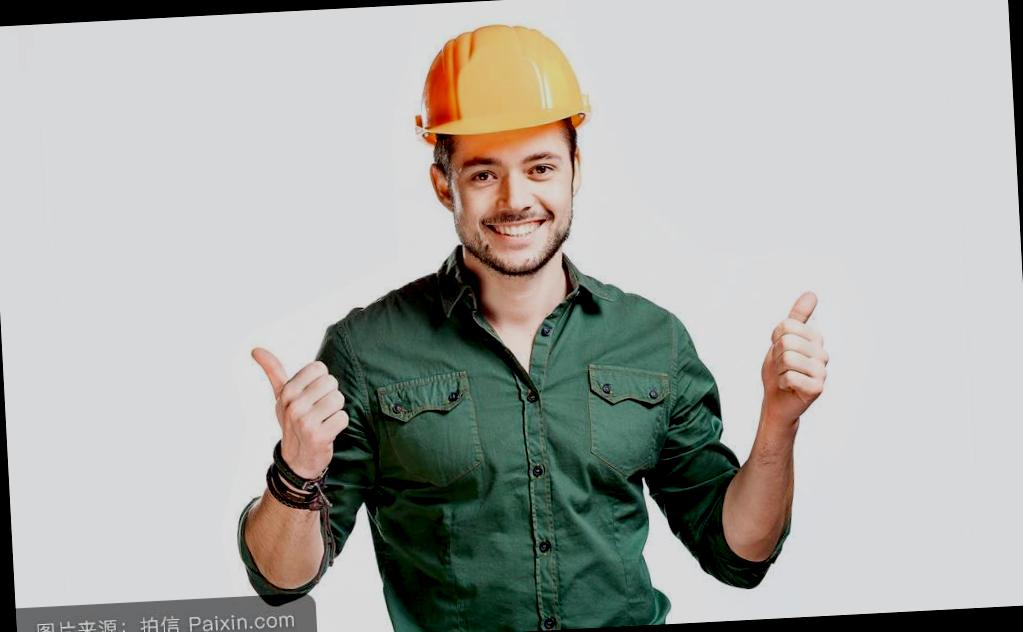helmet: (409, 23, 590, 140)
no_vest: (360, 255, 699, 632)
person: (298, 9, 720, 632)
